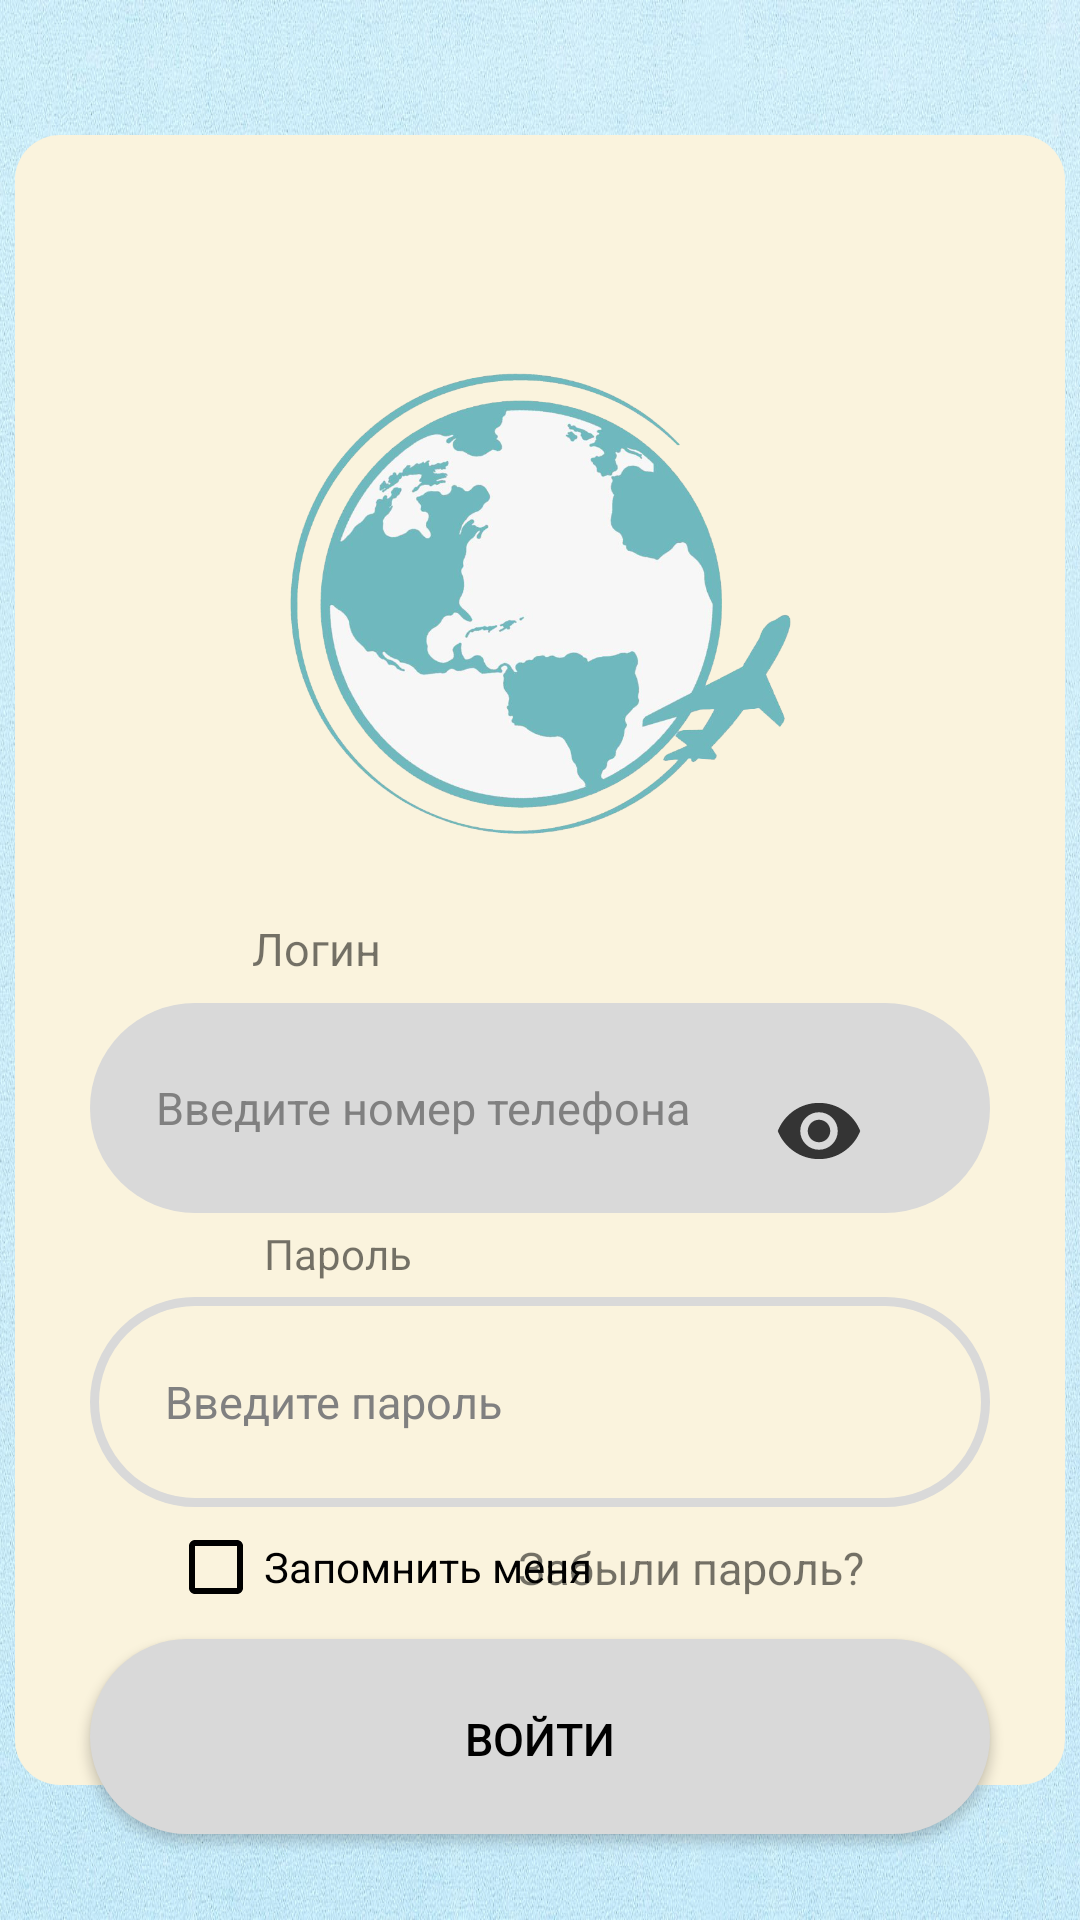

Locate icon controls on the screen. Image size 1080 x 1920, boxes as {"left": x1, "top": y1, "right": x2, "bottom": y2}.
eye on: {"left": 778, "top": 1103, "right": 860, "bottom": 1159}
